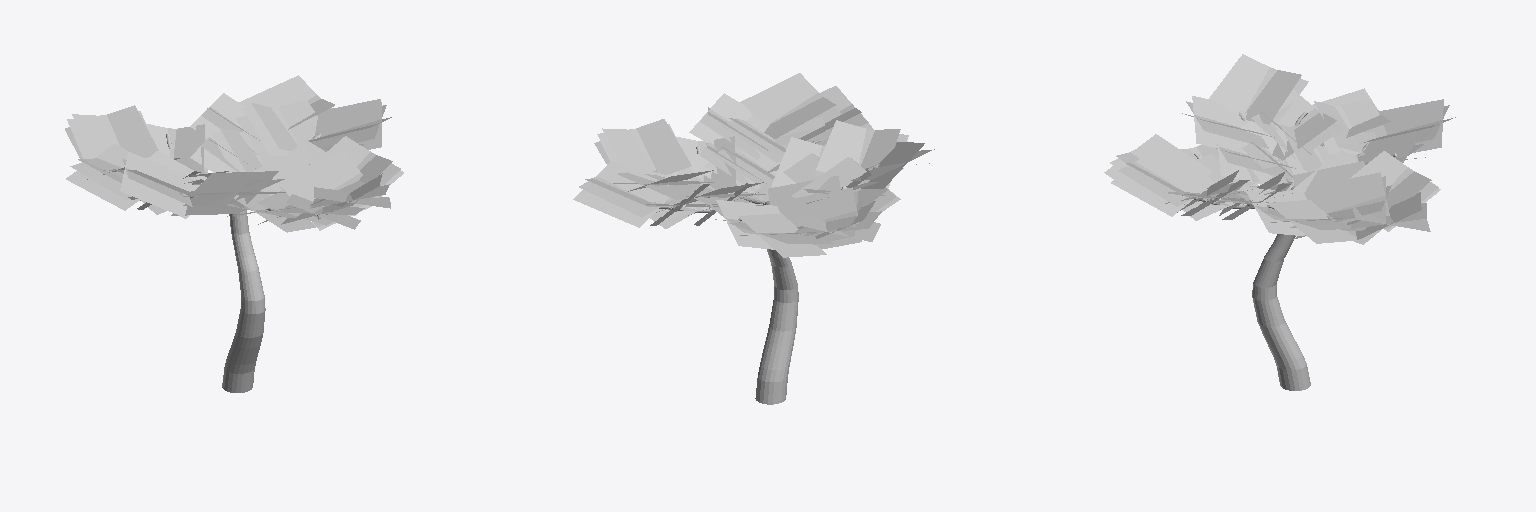
File: Tree02.obj
3 views of the same model, side by side, from view 1: azimuth 30°, elevation 25°; view 2: azimuth 150°, elevation 25°; view 3: azimuth 270°, elevation 25° (orthographic).
Visible parts, largest first — view 1: pPlane72; view 2: pPlane72; view 3: pPlane72.
Part boxes in pixels (x1,y1,x2,y2): pPlane72: (65, 75, 403, 392); pPlane72: (573, 73, 934, 404); pPlane72: (1104, 54, 1455, 390).
Bounding box in the file's own units: 27.38 × 22.47 × 26.82.